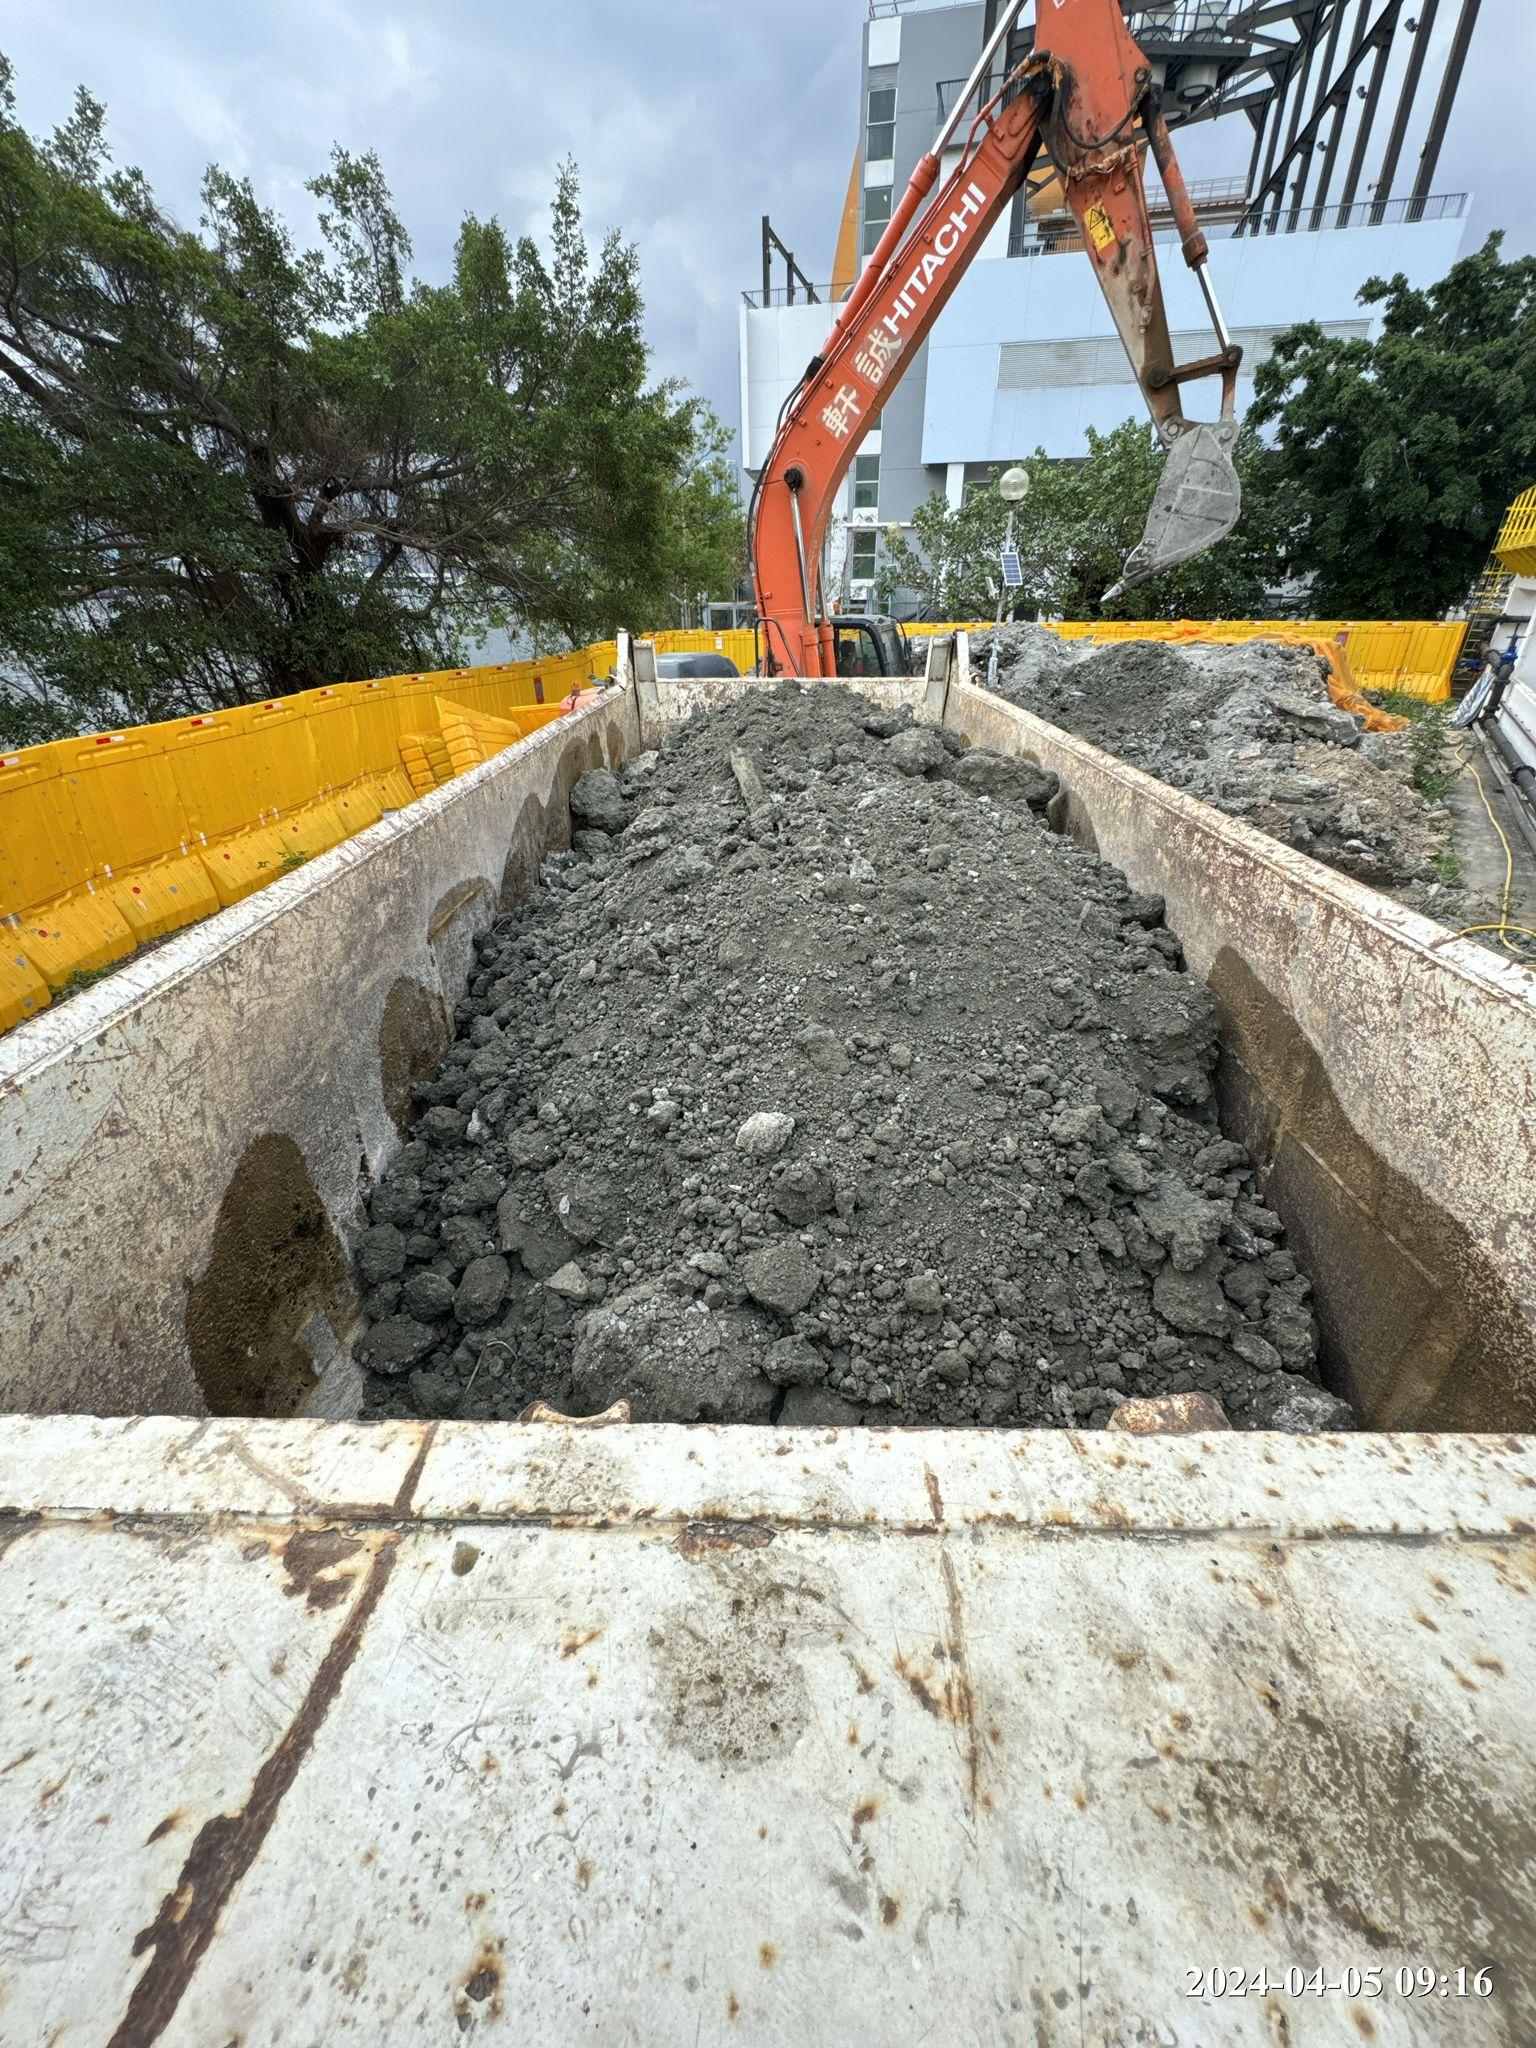wet: (373, 669, 1341, 1421)
